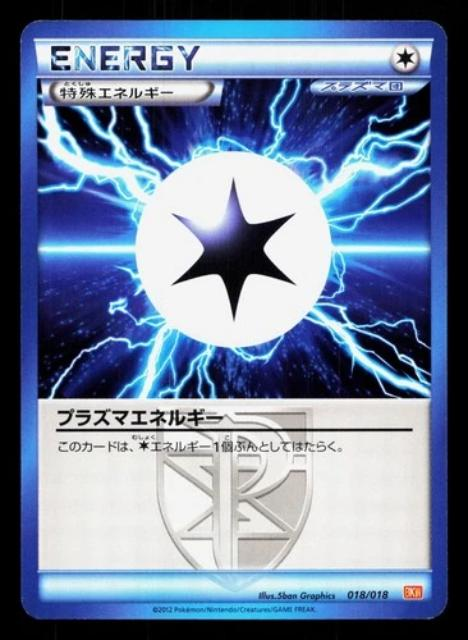Card: (13, 14, 454, 626)
Name: (52, 403, 229, 432)
